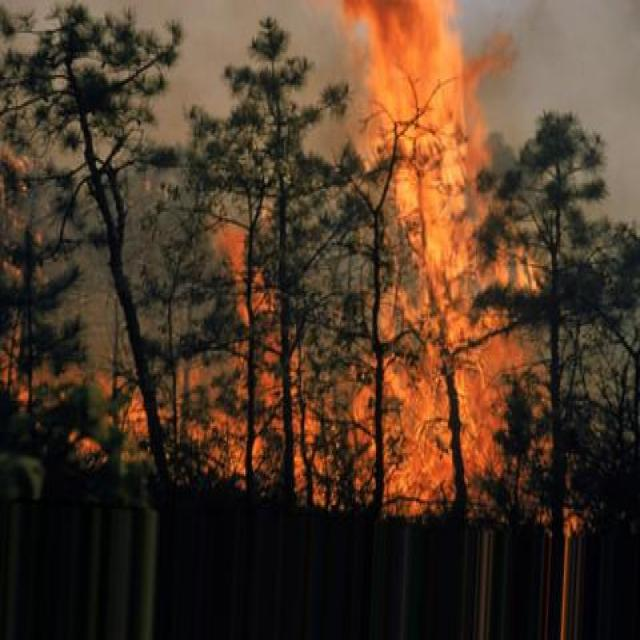fire: (355, 2, 495, 526)
